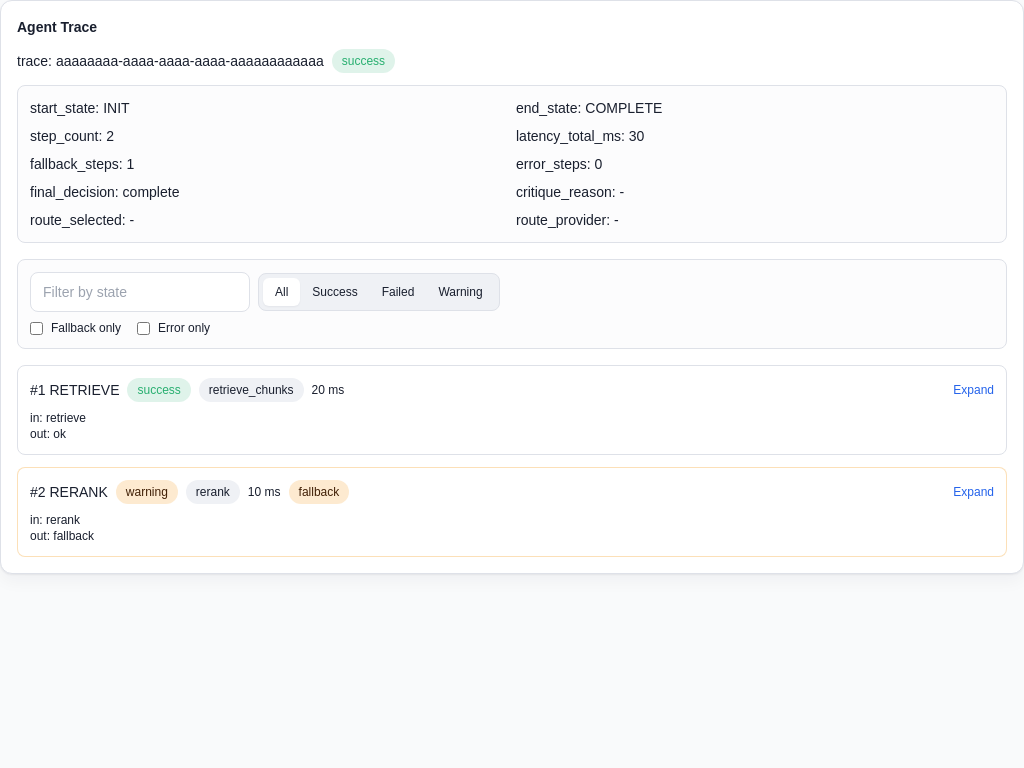
Scenario: AgentTracePanel › filters timeline by fallback flag
Click the checkbox labelled "Fallback only" at (36,328), box [30, 322, 43, 334]
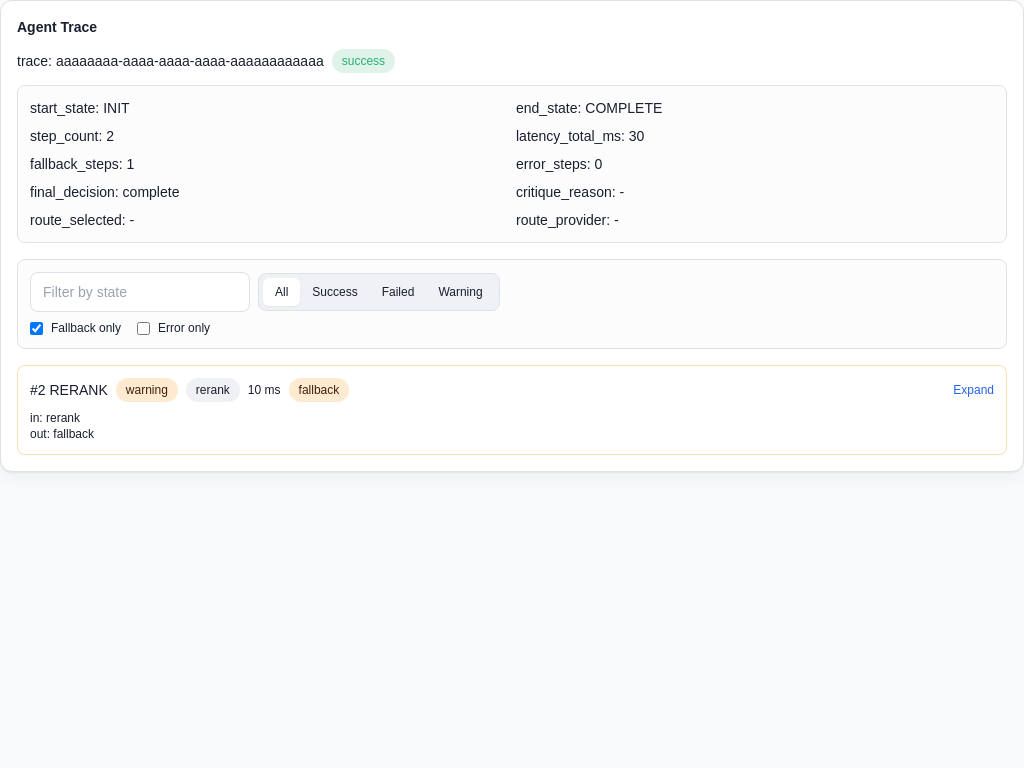
Check: the text "#2 RERANK" is shown, box [30, 380, 108, 400]
Check: the text "#1 RETRIEVE" is gone
